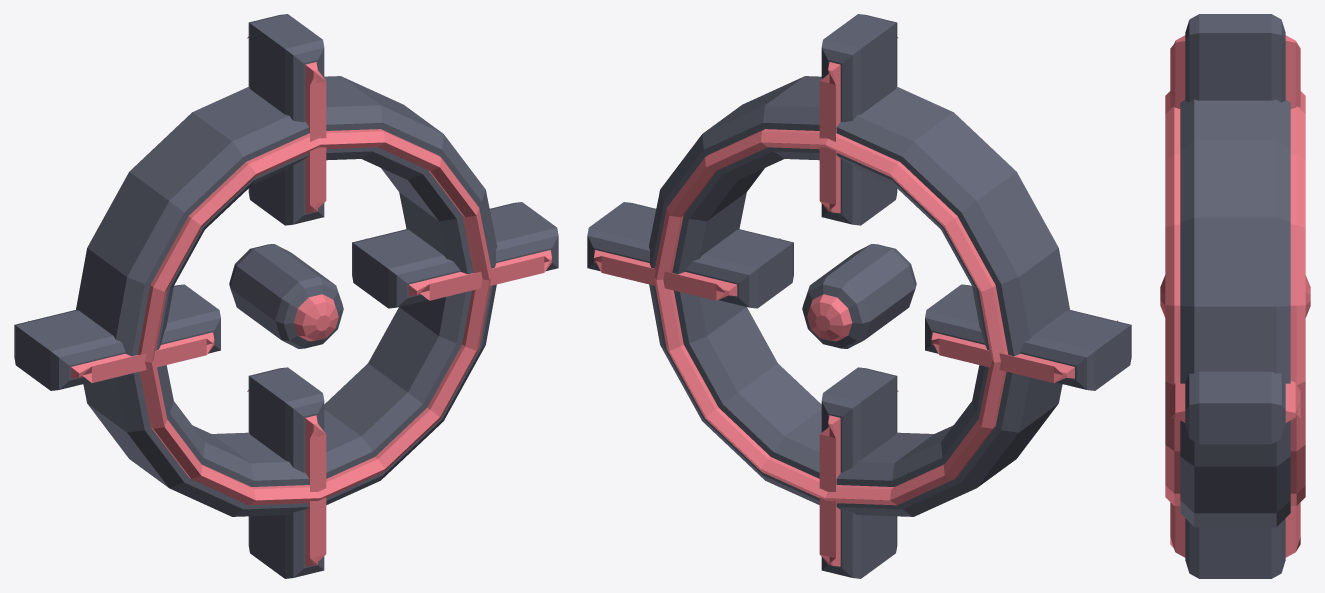
File: game-ui-icon-library-crosshair-6c99c448__19024.glb
The picture shows the model from 3 angles, left to right: view 1: azimuth 30°, elevation 25°; view 2: azimuth 150°, elevation 25°; view 3: azimuth 270°, elevation 25°; orthographic projection. The views are drawn at different scales.
Visible parts, largest first — view 1: crosshair; view 2: crosshair; view 3: crosshair.
Part boxes in pixels (<box>): crosshair: <box>14,14,558,578</box>; crosshair: <box>587,14,1131,578</box>; crosshair: <box>1160,14,1310,578</box>.
Bounding box in the file's own units: 0.94 × 0.94 × 0.2351.
